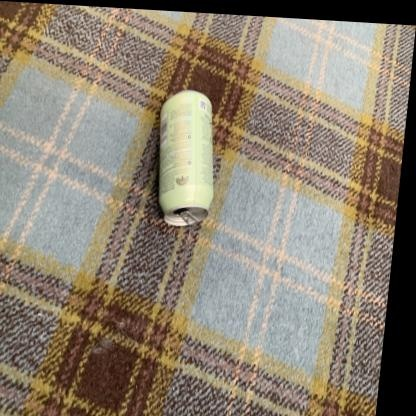trash: (159, 90, 212, 225)
